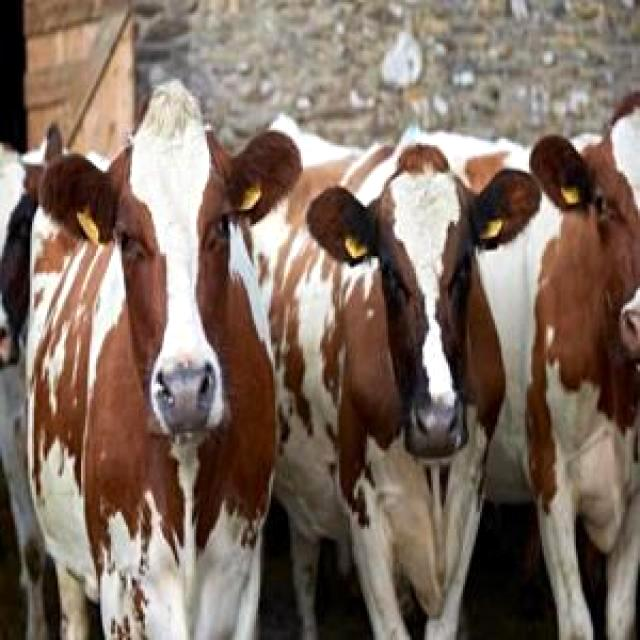COW: (26, 81, 300, 640), (270, 128, 541, 639), (480, 95, 640, 640)
